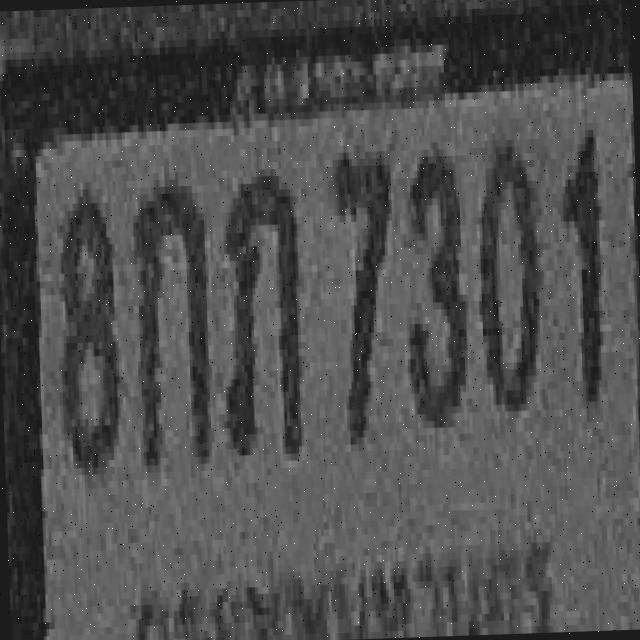0: (473, 132, 543, 412)
1: (558, 126, 606, 406)
10GorGai: (131, 178, 212, 465)
3: (401, 144, 468, 424)
41PhorSamPhao: (218, 165, 304, 452)
7: (330, 147, 398, 441)
8: (54, 184, 120, 472)
